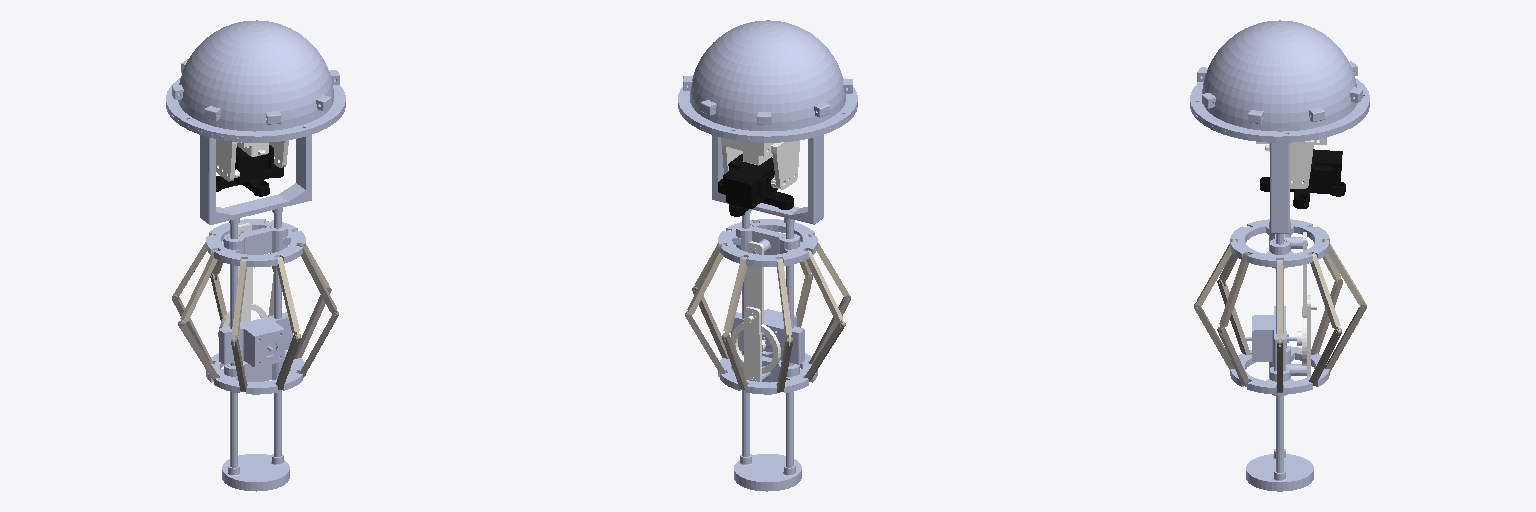
--- What the picture shows (computed from the rendered views, not written in the file) ---
Views: 3 orthographic renders of the robot side by side, from view 1: azimuth 30°, elevation 25°; view 2: azimuth 150°, elevation 25°; view 3: azimuth 270°, elevation 25°.
Model medux_in_base with 24 links and 23 joints (18 revolute, 3 continuous, 2 prismatic), rooted at base_link, posed all joints at 0.
Visible links, largest first — view 1: base_link, des1_Link, des2_Link, tilt_Link, pan_Link, var2_Link, var4_Link, var1_Link, var3_Link, vari8_Link; view 2: base_link, des1_Link, tilt_Link, pan_Link, des2_Link, trans2_Link, trans1_Link, motor_Link, var4_Link, var6_Link, var5_Link, var7_Link (+1 smaller); view 3: base_link, des1_Link, des2_Link, tilt_Link, pan_Link, var1_Link, var7_Link, vari3_Link, vari5_Link, vari6_Link.
Boxes of the visible links, <box> form: base_link: <box>166,20,345,491</box>; des1_Link: <box>206,219,305,267</box>; des2_Link: <box>206,350,305,394</box>; tilt_Link: <box>216,145,283,196</box>; pan_Link: <box>216,139,288,181</box>; var2_Link: <box>276,257,299,339</box>; var4_Link: <box>179,250,217,326</box>; var1_Link: <box>298,243,338,315</box>; var3_Link: <box>232,259,246,342</box>; vari8_Link: <box>294,287,331,358</box>; base_link: <box>678,20,857,491</box>; des1_Link: <box>718,219,817,266</box>; tilt_Link: <box>718,154,793,216</box>; pan_Link: <box>721,137,799,189</box>; des2_Link: <box>718,351,817,394</box>; trans2_Link: <box>744,306,761,381</box>; trans1_Link: <box>746,241,763,324</box>; motor_Link: <box>731,316,780,373</box>; var4_Link: <box>806,250,844,325</box>; var6_Link: <box>723,257,746,339</box>; var5_Link: <box>777,259,791,342</box>; var7_Link: <box>685,244,724,316</box>; base_link: <box>1190,20,1369,491</box>; des1_Link: <box>1230,219,1329,268</box>; des2_Link: <box>1230,346,1329,395</box>; tilt_Link: <box>1260,149,1345,208</box>; pan_Link: <box>1256,137,1326,188</box>; var1_Link: <box>1219,252,1250,332</box>; var7_Link: <box>1310,253,1340,333</box>; vari3_Link: <box>1217,280,1250,354</box>; vari5_Link: <box>1311,279,1342,354</box>; vari6_Link: <box>1325,304,1366,371</box>.
Bounding box of the posed robot: 0.1799 × 0.18 × 0.495 m (x, y, z).
24 mesh visuals loaded from 24 distinct referenced files (24 binary STL).

The robot description file, URDF, robot "medux_in_base":
<?xml version="1.0" encoding="utf-8"?>
<!-- This URDF was automatically created by SolidWorks to URDF Exporter! Originally created by Stephen Brawner ([email redacted]) 
     Commit Version: 1.6.0-4-g7f85cfe  Build Version: 1.6.7995.38578
     For more information, please see http://wiki.ros.org/sw_urdf_exporter -->
<robot
  name="medux_in_base">
  <link name="base_link">
    <inertial>
      <origin rpy="0 0 0" xyz="8.1991E-06 0.98656 -0.086954"/>
      <mass value="1.6"/>
      <inertia ixx="0.0012805" ixy="-1.3656E-09" ixz="-1.702E-07" iyy="0.0014401" iyz="-3.6106E-08" izz="0.0016345"/>
    </inertial>
    <visual>
      <origin rpy="0 0 0" xyz="0 0 0"/>
      <geometry>
        <mesh filename="package://medusa/meshes/base_link.STL"/>
      </geometry>
      <material name="">
        <color rgba="0.79216 0.81961 0.93333 1"/>
      </material>
    </visual>
    <collision>
      <origin rpy="0 0 0" xyz="0 0 0"/>
      <geometry>
        <mesh filename="package://medusa/meshes/base_link.STL"/>
      </geometry>
    </collision>
  </link>
  <link name="pan_Link">
    <inertial>
      <origin rpy="0 0 0" xyz="-0.0118285338400179 -0.0261988170013136 7.74253961943402E-05"/>
      <mass value="0.0963022052722061"/>
      <inertia ixx="2.34213925781283E-05" ixy="-1.52459122344394E-07" ixz="-1.25811602826164E-07" iyy="3.24648923973432E-05" iyz="-1.96655179436552E-07" izz="4.45511929970947E-05"/>
    </inertial>
    <visual>
      <origin rpy="0 0 0" xyz="0 0 0"/>
      <geometry>
        <mesh filename="package://medusa/meshes/pan_Link.STL"/>
      </geometry>
      <material name="">
        <color rgba="1 1 1 1"/>
      </material>
    </visual>
    <collision>
      <origin rpy="0 0 0" xyz="0 0 0"/>
      <geometry>
        <mesh filename="package://medusa/meshes/pan_Link.STL"/>
      </geometry>
    </collision>
  </link>
  <joint name="pan_joint" type="revolute">
    <origin rpy="1.5708 0 -1.6072" xyz="0 0.98903 -0.002"/>
    <parent link="base_link"/>
    <child link="pan_Link"/>
    <axis xyz="0 1 0"/>
    <limit effort="0" lower="-1.57" upper="1.57" velocity="0"/>
  </joint>
  <link name="tilt_Link">
    <inertial>
      <origin rpy="0 0 0" xyz="-0.00884432479967212 0.000435660039421401 0.0046408733757955"/>
      <mass value="0.0767741720451825"/>
      <inertia ixx="1.43943261306964E-05" ixy="7.70704727691347E-07" ixz="4.25377475393785E-07" iyy="2.33285419126366E-05" iyz="4.33191167756273E-07" izz="3.28588303923382E-05"/>
    </inertial>
    <visual>
      <origin rpy="0 0 0" xyz="0 0 0"/>
      <geometry>
        <mesh filename="package://medusa/meshes/tilt_Link.STL"/>
      </geometry>
      <material name="">
        <color rgba="0.113725490196078 0.113725490196078 0.113725490196078 1"/>
      </material>
    </visual>
    <collision>
      <origin rpy="0 0 0" xyz="0 0 0"/>
      <geometry>
        <mesh filename="package://medusa/meshes/tilt_Link.STL"/>
      </geometry>
    </collision>
  </link>
  <joint name="tilt_joint" type="revolute">
    <origin rpy="1.5708 0 0.0010716" xyz="-0.0203 -0.06276 0"/>
    <parent link="pan_Link"/>
    <child link="tilt_Link"/>
    <axis xyz="0 1 0"/>
    <limit effort="0" lower="-1.57" upper="1.57" velocity="0"/>
  </joint>
  <link name="motor_Link">
    <inertial>
      <origin rpy="0 0 0" xyz="0.00363771694203027 -4.84031217884429E-14 -0.000258995428377817"/>
      <mass value="0.0090483578625824"/>
      <inertia ixx="1.57866839015676E-06" ixy="-1.8736536211995E-19" ixz="-4.66008729710768E-08" iyy="2.95091265434574E-06" iyz="-6.80256420723492E-21" izz="4.46739001874519E-06"/>
    </inertial>
    <visual>
      <origin rpy="0 0 0" xyz="0 0 0"/>
      <geometry>
        <mesh filename="package://medusa/meshes/motor_Link.STL"/>
      </geometry>
      <material name="">
        <color rgba="1 1 1 1"/>
      </material>
    </visual>
    <collision>
      <origin rpy="0 0 0" xyz="0 0 0"/>
      <geometry>
        <mesh filename="package://medusa/meshes/motor_Link.STL"/>
      </geometry>
    </collision>
  </link>
  <joint name="motor_joint" type="continuous">
    <origin rpy="-1.5708 -1.549 0" xyz="0 1.0135 -0.2523"/>
    <parent link="base_link"/>
    <child link="motor_Link"/>
    <axis xyz="0 0 1"/>
  </joint>
  <link name="trans1_Link">
    <inertial>
      <origin rpy="0 0 0" xyz="0.0350000024922854 6.15115881407585E-11 3.63174674533617E-06"/>
      <mass value="0.0127602624789467"/>
      <inertia ixx="2.69533168742575E-07" ixy="-2.41708116713188E-14" ixz="-2.00375196199614E-14" iyy="3.31670440493315E-06" iyz="1.88078176772058E-12" izz="3.55270411698295E-06"/>
    </inertial>
    <visual>
      <origin rpy="0 0 0" xyz="0 0 0"/>
      <geometry>
        <mesh filename="package://medusa/meshes/trans1_Link.STL"/>
      </geometry>
      <material name="">
        <color rgba="1 1 1 1"/>
      </material>
    </visual>
    <collision>
      <origin rpy="0 0 0" xyz="0 0 0"/>
      <geometry>
        <mesh filename="package://medusa/meshes/trans1_Link.STL"/>
      </geometry>
    </collision>
  </link>
  <joint name="trans1_joint" type="continuous">
    <origin rpy="0 0 -0.03269" xyz="0.035 0 0.0003"/>
    <parent link="motor_Link"/>
    <child link="trans1_Link"/>
    <axis xyz="0 0 1"/>
  </joint>
  <link name="trans2_Link">
    <inertial>
      <origin rpy="0 0 0" xyz="0.0349999975069641 -7.22608908473865E-12 -1.46118672716966E-11"/>
      <mass value="0.0127602624789467"/>
      <inertia ixx="2.69533168712542E-07" ixy="2.27929628751198E-14" ixz="-2.0950672417306E-14" iyy="3.31670440496319E-06" iyz="-1.88077181749526E-12" izz="3.55270411698296E-06"/>
    </inertial>
    <visual>
      <origin rpy="0 0 0" xyz="0 0 0"/>
      <geometry>
        <mesh filename="package://medusa/meshes/trans2_Link.STL"/>
      </geometry>
      <material name="">
        <color rgba="1 1 1 1"/>
      </material>
    </visual>
    <collision>
      <origin rpy="0 0 0" xyz="0 0 0"/>
      <geometry>
        <mesh filename="package://medusa/meshes/trans2_Link.STL"/>
      </geometry>
    </collision>
  </link>
  <joint name="trans2_joint" type="continuous">
    <origin rpy="0 0 3.1307" xyz="0.035 0 0.0048"/>
    <parent link="motor_Link"/>
    <child link="trans2_Link"/>
    <axis xyz="0 0 1"/>
  </joint>
  <link name="des1_Link">
    <inertial>
      <origin rpy="0 0 0" xyz="-3.35899144194181E-05 0.0119960295285434 0.000270172693535575"/>
      <mass value="0.0871606227679131"/>
      <inertia ixx="2.62894561145803E-05" ixy="6.01608784088872E-09" ixz="1.16637422575552E-07" iyy="5.28730397981721E-05" iyz="1.42712107940534E-08" izz="3.24830835390945E-05"/>
    </inertial>
    <visual>
      <origin rpy="0 0 0" xyz="0 0 0"/>
      <geometry>
        <mesh filename="package://medusa/meshes/des1_Link.STL"/>
      </geometry>
      <material name="">
        <color rgba="0.792156862745098 0.819607843137255 0.933333333333333 1"/>
      </material>
    </visual>
    <collision>
      <origin rpy="0 0 0" xyz="0 0 0"/>
      <geometry>
        <mesh filename="package://medusa/meshes/des1_Link.STL"/>
      </geometry>
    </collision>
  </link>
  <joint name="des1_joint" type="prismatic">
    <origin rpy="-1.5708 0 0" xyz="0 0.98903 -0.13532"/>
    <parent link="base_link"/>
    <child link="des1_Link"/>
    <axis xyz="0 1 0"/>
    <limit effort="0" lower="0" upper="0.07" velocity="0"/>
  </joint>
  <link name="var1_Link">
    <inertial>
      <origin rpy="0 0 0" xyz="0.0372161139419003 -7.38076266770804E-13 3.21964677141295E-15"/>
      <mass value="0.00336929740146278"/>
      <inertia ixx="1.11779338879997E-08" ixy="1.39440296720386E-18" ixz="-5.39942144843989E-21" iyy="1.74156056743116E-06" iyz="1.05879118406788E-22" izz="1.75049230305152E-06"/>
    </inertial>
    <visual>
      <origin rpy="0 0 0" xyz="0 0 0"/>
      <geometry>
        <mesh filename="package://medusa/meshes/var1_Link.STL"/>
      </geometry>
      <material name="">
        <color rgba="0.647058823529412 0.619607843137255 0.6 1"/>
      </material>
    </visual>
    <collision>
      <origin rpy="0 0 0" xyz="0 0 0"/>
      <geometry>
        <mesh filename="package://medusa/meshes/var1_Link.STL"/>
      </geometry>
    </collision>
  </link>
  <joint name="var1_joint" type="revolute">
    <origin rpy="0.72609 0.33133 1.2196" xyz="0.032641 0.010509 -0.032641"/>
    <parent link="des1_Link"/>
    <child link="var1_Link"/>
    <axis xyz="0 0 1"/>
    <limit effort="0" lower="-1.57" upper="1.57" velocity="0"/>
  </joint>
  <link name="var2_Link">
    <inertial>
      <origin rpy="0 0 0" xyz="0.0372161139414589 3.09752223870419E-14 4.38916697970515E-15"/>
      <mass value="0.00336929740146275"/>
      <inertia ixx="1.11779338879994E-08" ixy="-1.38723978989431E-19" ixz="1.95672873067428E-21" iyy="1.74156056743115E-06" iyz="-1.57561625863084E-24" izz="1.7504923030515E-06"/>
    </inertial>
    <visual>
      <origin rpy="0 0 0" xyz="0 0 0"/>
      <geometry>
        <mesh filename="package://medusa/meshes/var2_Link.STL"/>
      </geometry>
      <material name="">
        <color rgba="0.843137254901961 0.815686274509804 0.752941176470588 1"/>
      </material>
    </visual>
    <collision>
      <origin rpy="0 0 0" xyz="0 0 0"/>
      <geometry>
        <mesh filename="package://medusa/meshes/var2_Link.STL"/>
      </geometry>
    </collision>
  </link>
  <joint name="var2_joint" type="revolute">
    <origin rpy="1.5708 0.4817 1.5708" xyz="0 0.012 -0.046"/>
    <parent link="des1_Link"/>
    <child link="var2_Link"/>
    <axis xyz="0 0 1"/>
    <limit effort="0" lower="-1.57" upper="1.57" velocity="0"/>
    <mimic joint="var1_joint" multiplier="1" offset="0"/>
  </joint>
  <link name="var3_Link">
    <inertial>
      <origin rpy="0 0 0" xyz="0.0372161139412611 6.08735284401973E-13 3.33066907387547E-15"/>
      <mass value="0.0033692974014628"/>
      <inertia ixx="1.11779338879993E-08" ixy="5.58295131966948E-18" ixz="1.90644451678159E-21" iyy="1.74156056743117E-06" iyz="1.05879118406788E-22" izz="1.75049230305153E-06"/>
    </inertial>
    <visual>
      <origin rpy="0 0 0" xyz="0 0 0"/>
      <geometry>
        <mesh filename="package://medusa/meshes/var3_Link.STL"/>
      </geometry>
      <material name="">
        <color rgba="0.843137254901961 0.815686274509804 0.752941176470588 1"/>
      </material>
    </visual>
    <collision>
      <origin rpy="0 0 0" xyz="0 0 0"/>
      <geometry>
        <mesh filename="package://medusa/meshes/var3_Link.STL"/>
      </geometry>
    </collision>
  </link>
  <joint name="var3_joint" type="revolute">
    <origin rpy="2.4167 0.33437 1.9256" xyz="-0.032475 0.012 -0.032475"/>
    <parent link="des1_Link"/>
    <child link="var3_Link"/>
    <axis xyz="0 0 1"/>
    <limit effort="0" lower="-1.57" upper="1.57" velocity="0"/>
    <mimic joint="var2_joint" multiplier="1"/>
  </joint>
  <link name="var4_Link">
    <inertial>
      <origin rpy="0 0 0" xyz="0.0372161139414705 -1.38777878078145E-17 0"/>
      <mass value="0.00336929740146276"/>
      <inertia ixx="1.11779338879994E-08" ixy="4.06832240671956E-20" ixz="4.18775676038702E-22" iyy="1.74156056743116E-06" iyz="9.27204596067714E-24" izz="1.75049230305151E-06"/>
    </inertial>
    <visual>
      <origin rpy="0 0 0" xyz="0 0 0"/>
      <geometry>
        <mesh filename="package://medusa/meshes/var4_Link.STL"/>
      </geometry>
      <material name="">
        <color rgba="0.843137254901961 0.815686274509804 0.752941176470588 1"/>
      </material>
    </visual>
    <collision>
      <origin rpy="0 0 0" xyz="0 0 0"/>
      <geometry>
        <mesh filename="package://medusa/meshes/var4_Link.STL"/>
      </geometry>
    </collision>
  </link>
  <joint name="var4_joint" type="revolute">
    <origin rpy="-3.1416 0 2.0925" xyz="-0.045937 0.013499 0"/>
    <parent link="des1_Link"/>
    <child link="var4_Link"/>
    <axis xyz="0 0 1"/>
    <limit effort="0" lower="-1.57" upper="1.57" velocity="0"/>
    <mimic joint="var3_joint" multiplier="1"/>
  </joint>
  <link name="var5_Link">
    <inertial>
      <origin rpy="0 0 0" xyz="0.037216113941585 7.92255150372512E-13 -2.88657986402541E-15"/>
      <mass value="0.00336929740146277"/>
      <inertia ixx="1.11779338879995E-08" ixy="-4.6702965834577E-17" ixz="-7.25809628484654E-21" iyy="1.74156056743115E-06" iyz="-5.29395592033938E-23" izz="1.75049230305151E-06"/>
    </inertial>
    <visual>
      <origin rpy="0 0 0" xyz="0 0 0"/>
      <geometry>
        <mesh filename="package://medusa/meshes/var5_Link.STL"/>
      </geometry>
      <material name="">
        <color rgba="0.843137254901961 0.815686274509804 0.752941176470588 1"/>
      </material>
    </visual>
    <collision>
      <origin rpy="0 0 0" xyz="0 0 0"/>
      <geometry>
        <mesh filename="package://medusa/meshes/var5_Link.STL"/>
      </geometry>
    </collision>
  </link>
  <joint name="var5_joint" type="revolute">
    <origin rpy="-2.4199 -0.34236 1.9352" xyz="-0.032518 0.012 0.032518"/>
    <parent link="des1_Link"/>
    <child link="var5_Link"/>
    <axis xyz="0 0 1"/>
    <limit effort="0" lower="-1.57" upper="1.57" velocity="0"/>
    <mimic joint="var4_joint" multiplier="1"/>
  </joint>
  <link name="var6_Link">
    <inertial>
      <origin rpy="0 0 0" xyz="0.0372161139415077 4.85833595575969E-13 -4.45727268260661E-15"/>
      <mass value="0.00336929740146273"/>
      <inertia ixx="1.11779338879989E-08" ixy="-2.5750876931327E-17" ixz="2.04674421871886E-21" iyy="1.74156056743114E-06" iyz="2.26599889927076E-24" izz="1.75049230305149E-06"/>
    </inertial>
    <visual>
      <origin rpy="0 0 0" xyz="0 0 0"/>
      <geometry>
        <mesh filename="package://medusa/meshes/var6_Link.STL"/>
      </geometry>
      <material name="">
        <color rgba="0.843137254901961 0.815686274509804 0.752941176470588 1"/>
      </material>
    </visual>
    <collision>
      <origin rpy="0 0 0" xyz="0 0 0"/>
      <geometry>
        <mesh filename="package://medusa/meshes/var6_Link.STL"/>
      </geometry>
    </collision>
  </link>
  <joint name="var6_joint" type="revolute">
    <origin rpy="-1.5708 -0.49846 1.5708" xyz="0 0.012 0.045942"/>
    <parent link="des1_Link"/>
    <child link="var6_Link"/>
    <axis xyz="0 0 1"/>
    <limit effort="0" lower="-1.57" upper="1.57" velocity="0"/>
    <mimic joint="var5_joint" multiplier="1"/>
  </joint>
  <link name="var7_Link">
    <inertial>
      <origin rpy="0 0 0" xyz="0.0372161139414895 -4.2854608750531E-14 -6.66133814775094E-16"/>
      <mass value="0.00336929740146276"/>
      <inertia ixx="1.11779338879995E-08" ixy="1.26436624580262E-20" ixz="7.83960425547132E-21" iyy="1.74156056743114E-06" iyz="-5.29395592033938E-23" izz="1.7504923030515E-06"/>
    </inertial>
    <visual>
      <origin rpy="0 0 0" xyz="0 0 0"/>
      <geometry>
        <mesh filename="package://medusa/meshes/var7_Link.STL"/>
      </geometry>
      <material name="">
        <color rgba="0.843137254901961 0.815686274509804 0.752941176470588 1"/>
      </material>
    </visual>
    <collision>
      <origin rpy="0 0 0" xyz="0 0 0"/>
      <geometry>
        <mesh filename="package://medusa/meshes/var7_Link.STL"/>
      </geometry>
    </collision>
  </link>
  <joint name="var7_joint" type="revolute">
    <origin rpy="-0.72658 -0.33006 1.2211" xyz="0.032527 0.012 0.032527"/>
    <parent link="des1_Link"/>
    <child link="var7_Link"/>
    <axis xyz="0 0 1"/>
    <limit effort="0" lower="-1.57" upper="1.57" velocity="0"/>
    <mimic joint="var6_joint" multiplier="1"/>
  </joint>
  <link name="var8_Link">
    <inertial>
      <origin rpy="0 0 0" xyz="0.0372161139414965 -9.9406594067375E-14 -1.11022302462516E-16"/>
      <mass value="0.00336929740146276"/>
      <inertia ixx="1.11779338879994E-08" ixy="-1.79071326368899E-18" ixz="3.28928643878773E-22" iyy="1.74156056743116E-06" iyz="-6.84068782855437E-24" izz="1.75049230305151E-06"/>
    </inertial>
    <visual>
      <origin rpy="0 0 0" xyz="0 0 0"/>
      <geometry>
        <mesh filename="package://medusa/meshes/var8_Link.STL"/>
      </geometry>
      <material name="">
        <color rgba="0.843137254901961 0.815686274509804 0.752941176470588 1"/>
      </material>
    </visual>
    <collision>
      <origin rpy="0 0 0" xyz="0 0 0"/>
      <geometry>
        <mesh filename="package://medusa/meshes/var8_Link.STL"/>
      </geometry>
    </collision>
  </link>
  <joint name="var8_joint" type="revolute">
    <origin rpy="0 0 1.0888" xyz="0.046 0.012 0"/>
    <parent link="des1_Link"/>
    <child link="var8_Link"/>
    <axis xyz="0 0 1"/>
    <limit effort="0" lower="-1.57" upper="1.57" velocity="0"/>
    <mimic joint="var7_joint" multiplier="1"/>
  </joint>
  <link name="des2_Link">
    <inertial>
      <origin rpy="0 0 0" xyz="-3.36265553015573E-05 0.011996025197435 0.000223789664236418"/>
      <mass value="0.087065648965423"/>
      <inertia ixx="2.61220393789014E-05" ixy="6.01614278362878E-09" ixz="1.16918317543917E-07" iyy="5.24490776636611E-05" iyz="1.43044137799259E-08" izz="3.22308660578771E-05"/>
    </inertial>
    <visual>
      <origin rpy="0 0 0" xyz="0 0 0"/>
      <geometry>
        <mesh filename="package://medusa/meshes/des2_Link.STL"/>
      </geometry>
      <material name="">
        <color rgba="0.792156862745098 0.819607843137255 0.933333333333333 1"/>
      </material>
    </visual>
    <collision>
      <origin rpy="0 0 0" xyz="0 0 0"/>
      <geometry>
        <mesh filename="package://medusa/meshes/des2_Link.STL"/>
      </geometry>
    </collision>
  </link>
  <joint name="des2_joint" type="prismatic">
    <origin rpy="-1.5708 0 0" xyz="0 0.98903 -0.27531"/>
    <parent link="base_link"/>
    <child link="des2_Link"/>
    <axis xyz="0 1 0"/>
    <limit effort="0" lower="0" upper="0.07" velocity="0"/>
  </joint>
  <link name="vari1_Link">
    <inertial>
      <origin rpy="0 0 0" xyz="0.0383944192780585 -5.2030602049058E-13 1.77635683940025E-15"/>
      <mass value="0.00348011285246065"/>
      <inertia ixx="1.15338878638317E-08" ixy="4.63459830131351E-17" ixz="5.30429567799629E-22" iyy="1.908276947371E-06" iyz="0" izz="1.91749075999985E-06"/>
    </inertial>
    <visual>
      <origin rpy="0 0 0" xyz="0 0 0"/>
      <geometry>
        <mesh filename="package://medusa/meshes/vari1_Link.STL"/>
      </geometry>
      <material name="">
        <color rgba="0.647058823529412 0.619607843137255 0.6 1"/>
      </material>
    </visual>
    <collision>
      <origin rpy="0 0 0" xyz="0 0 0"/>
      <geometry>
        <mesh filename="package://medusa/meshes/vari1_Link.STL"/>
      </geometry>
    </collision>
  </link>
  <joint name="vari1_joint" type="revolute">
    <origin rpy="2.4111 0.31976 -1.2333" xyz="0.033507 0.011425 -0.033507"/>
    <parent link="des2_Link"/>
    <child link="vari1_Link"/>
    <axis xyz="0 0 1"/>
    <limit effort="0" lower="-1.57" upper="1.57" velocity="0"/>
  </joint>
  <link name="vari2_Link">
    <inertial>
      <origin rpy="0 0 0" xyz="0.0383944192776854 2.89768209427166E-14 2.4737594563612E-15"/>
      <mass value="0.00348011285246064"/>
      <inertia ixx="1.15338878638316E-08" ixy="7.58102759598724E-20" ixz="-2.13161642804239E-21" iyy="1.908276947371E-06" iyz="-3.50886094916816E-24" izz="1.91749075999986E-06"/>
    </inertial>
    <visual>
      <origin rpy="0 0 0" xyz="0 0 0"/>
      <geometry>
        <mesh filename="package://medusa/meshes/vari2_Link.STL"/>
      </geometry>
      <material name="">
        <color rgba="0.647058823529412 0.619607843137255 0.6 1"/>
      </material>
    </visual>
    <collision>
      <origin rpy="0 0 0" xyz="0 0 0"/>
      <geometry>
        <mesh filename="package://medusa/meshes/vari2_Link.STL"/>
      </geometry>
    </collision>
  </link>
  <joint name="vari2_joint" type="revolute">
    <origin rpy="1.5708 0.4825 -1.5708" xyz="0 0.012 -0.045944"/>
    <parent link="des2_Link"/>
    <child link="vari2_Link"/>
    <axis xyz="0 0 1"/>
    <limit effort="0" lower="-1.57" upper="1.57" velocity="0"/>
    <mimic joint="vari1_joint" multiplier="1" offset="0"/>
  </joint>
  <link name="vari3_Link">
    <inertial>
      <origin rpy="0 0 0" xyz="0.0383944192776972 1.40276679161389E-13 1.66533453693773E-15"/>
      <mass value="0.0034801128524607"/>
      <inertia ixx="1.1533887863832E-08" ixy="-7.00655066056917E-18" ixz="-5.7654488694946E-22" iyy="1.90827694737104E-06" iyz="0" izz="1.91749075999989E-06"/>
    </inertial>
    <visual>
      <origin rpy="0 0 0" xyz="0 0 0"/>
      <geometry>
        <mesh filename="package://medusa/meshes/vari3_Link.STL"/>
      </geometry>
      <material name="">
        <color rgba="0.647058823529412 0.619607843137255 0.6 1"/>
      </material>
    </visual>
    <collision>
      <origin rpy="0 0 0" xyz="0 0 0"/>
      <geometry>
        <mesh filename="package://medusa/meshes/vari3_Link.STL"/>
      </geometry>
    </collision>
  </link>
  <joint name="vari3_joint" type="revolute">
    <origin rpy="0.72518 0.33367 -1.9248" xyz="-0.032527 0.012 -0.032527"/>
    <parent link="des2_Link"/>
    <child link="vari3_Link"/>
    <axis xyz="0 0 1"/>
    <limit effort="0" lower="-1.57" upper="1.57" velocity="0"/>
    <mimic joint="vari2_joint" multiplier="1"/>
  </joint>
  <link name="vari4_Link">
    <inertial>
      <origin rpy="0 0 0" xyz="0.0383944192776953 2.83106871279415E-15 1.11022302462516E-16"/>
      <mass value="0.00348011285246065"/>
      <inertia ixx="1.15338878638319E-08" ixy="-4.65603423193848E-20" ixz="-4.65890770850715E-22" iyy="1.908276947371E-06" iyz="-1.00852880211941E-23" izz="1.91749075999986E-06"/>
    </inertial>
    <visual>
      <origin rpy="0 0 0" xyz="0 0 0"/>
      <geometry>
        <mesh filename="package://medusa/meshes/vari4_Link.STL"/>
      </geometry>
      <material name="">
        <color rgba="0.647058823529412 0.619607843137255 0.6 1"/>
      </material>
    </visual>
    <collision>
      <origin rpy="0 0 0" xyz="0 0 0"/>
      <geometry>
        <mesh filename="package://medusa/meshes/vari4_Link.STL"/>
      </geometry>
    </collision>
  </link>
  <joint name="vari4_joint" type="revolute">
    <origin rpy="0 0 -2.0922" xyz="-0.045956 0.010501 0"/>
    <parent link="des2_Link"/>
    <child link="vari4_Link"/>
    <axis xyz="0 0 1"/>
    <limit effort="0" lower="-1.57" upper="1.57" velocity="0"/>
    <mimic joint="vari3_joint" multiplier="1"/>
  </joint>
  <link name="vari5_Link">
    <inertial>
      <origin rpy="0 0 0" xyz="0.0383944192776846 2.53796983429311E-13 -1.11022302462516E-15"/>
      <mass value="0.00348011285246069"/>
      <inertia ixx="1.15338878638318E-08" ixy="-1.30448558084623E-17" ixz="-7.26388654913441E-21" iyy="1.90827694737102E-06" iyz="-5.29395592033938E-23" izz="1.91749075999988E-06"/>
    </inertial>
    <visual>
      <origin rpy="0 0 0" xyz="0 0 0"/>
      <geometry>
        <mesh filename="package://medusa/meshes/vari5_Link.STL"/>
      </geometry>
      <material name="">
        <color rgba="0.647058823529412 0.619607843137255 0.6 1"/>
      </material>
    </visual>
    <collision>
      <origin rpy="0 0 0" xyz="0 0 0"/>
      <geometry>
        <mesh filename="package://medusa/meshes/vari5_Link.STL"/>
      </geometry>
    </collision>
  </link>
  <joint name="vari5_joint" type="revolute">
    <origin rpy="-0.72734 -0.32809 -1.9181" xyz="-0.033583 0.011858 0.033583"/>
    <parent link="des2_Link"/>
    <child link="vari5_Link"/>
    <axis xyz="0 0 1"/>
    <limit effort="0" lower="-1.57" upper="1.57" velocity="0"/>
    <mimic joint="vari4_joint" multiplier="1" offset="0"/>
  </joint>
  <link name="vari6_Link">
    <inertial>
      <origin rpy="0 0 0" xyz="0.0383944192767571 -1.73638881051374E-13 -2.40786398692195E-15"/>
      <mass value="0.00348011285246067"/>
      <inertia ixx="1.15338878638323E-08" ixy="-3.57380352036591E-17" ixz="-2.21151698286206E-21" iyy="1.90827694737102E-06" iyz="1.85231217797673E-25" izz="1.91749075999987E-06"/>
    </inertial>
    <visual>
      <origin rpy="0 0 0" xyz="0 0 0"/>
      <geometry>
        <mesh filename="package://medusa/meshes/vari6_Link.STL"/>
      </geometry>
      <material name="">
        <color rgba="0.647058823529412 0.619607843137255 0.6 1"/>
      </material>
    </visual>
    <collision>
      <origin rpy="0 0 0" xyz="0 0 0"/>
      <geometry>
        <mesh filename="package://medusa/meshes/vari6_Link.STL"/>
      </geometry>
    </collision>
  </link>
  <joint name="vari6_joint" type="revolute">
    <origin rpy="-1.5708 -0.477 -1.5708" xyz="0 0.011577 0.047439"/>
    <parent link="des2_Link"/>
    <child link="vari6_Link"/>
    <axis xyz="0 0 1"/>
    <limit effort="0" lower="-1.57" upper="1.57" velocity="0"/>
    <mimic joint="vari5_joint" multiplier="1" offset="0"/>
  </joint>
  <link name="vari7_Link">
    <inertial>
      <origin rpy="0 0 0" xyz="0.0383944192777346 -6.11732886568461E-14 -2.33146835171283E-15"/>
      <mass value="0.00348011285246063"/>
      <inertia ixx="1.15338878638318E-08" ixy="2.31368621185676E-20" ixz="2.37359476772091E-21" iyy="1.90827694737098E-06" iyz="1.05879118406788E-22" izz="1.91749075999984E-06"/>
    </inertial>
    <visual>
      <origin rpy="0 0 0" xyz="0 0 0"/>
      <geometry>
        <mesh filename="package://medusa/meshes/vari7_Link.STL"/>
      </geometry>
      <material name="">
        <color rgba="0.647058823529412 0.619607843137255 0.6 1"/>
      </material>
    </visual>
    <collision>
      <origin rpy="0 0 0" xyz="0 0 0"/>
      <geometry>
        <mesh filename="package://medusa/meshes/vari7_Link.STL"/>
      </geometry>
    </collision>
  </link>
  <joint name="vari7_joint" type="revolute">
    <origin rpy="-2.4181 -0.33793 -1.2117" xyz="0.03194 0.012 0.03194"/>
    <parent link="des2_Link"/>
    <child link="vari7_Link"/>
    <axis xyz="0 0 1"/>
    <limit effort="0" lower="-1.57" upper="1.57" velocity="0"/>
    <mimic joint="vari6_joint" multiplier="1"/>
  </joint>
  <link name="vari8_Link">
    <inertial>
      <origin rpy="0 0 0" xyz="0.0383944192777002 -4.5102810375397E-14 -1.11022302462516E-16"/>
      <mass value="0.00348011285246063"/>
      <inertia ixx="1.15338878638315E-08" ixy="1.90273833404705E-18" ixz="-6.7182998921553E-22" iyy="1.908276947371E-06" iyz="3.994916513673E-23" izz="1.91749075999986E-06"/>
    </inertial>
    <visual>
      <origin rpy="0 0 0" xyz="0 0 0"/>
      <geometry>
        <mesh filename="package://medusa/meshes/vari8_Link.STL"/>
      </geometry>
      <material name="">
        <color rgba="0.647058823529412 0.619607843137255 0.6 1"/>
      </material>
    </visual>
    <collision>
      <origin rpy="0 0 0" xyz="0 0 0"/>
      <geometry>
        <mesh filename="package://medusa/meshes/vari8_Link.STL"/>
      </geometry>
    </collision>
  </link>
  <joint name="vari8_joint" type="revolute">
    <origin rpy="-3.1416 0 -1.0886" xyz="0.045982 0.012 0"/>
    <parent link="des2_Link"/>
    <child link="vari8_Link"/>
    <axis xyz="0 0 1"/>
    <limit effort="0" lower="-1.57" upper="1.57" velocity="0"/>
    <mimic joint="vari7_joint" multiplier="1" offset="0"/>
  </joint>
</robot>
